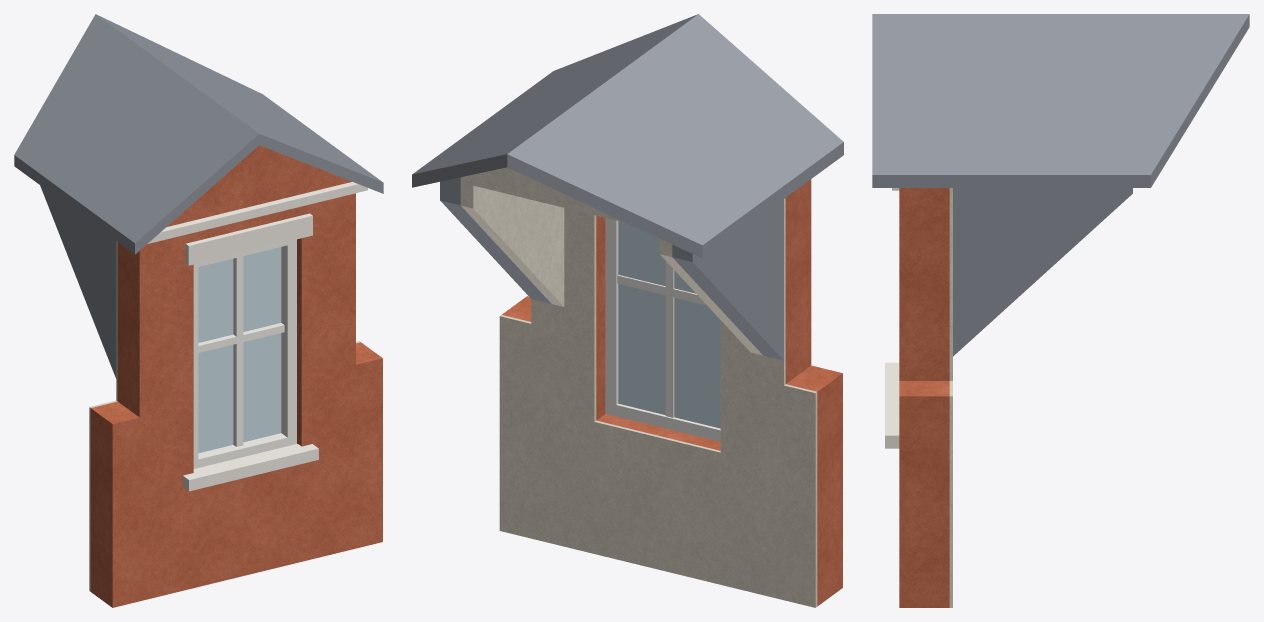
Rendered from knee_wall_dormer.glb.
3 views of the same model, side by side, from view 1: azimuth 30°, elevation 25°; view 2: azimuth 150°, elevation 25°; view 3: azimuth 270°, elevation 25° (orthographic). The views are drawn at different scales.
Parts seen in each view (by area): view 1: knee_wall_dormer_render, knee_wall_dormer_slate, knee_wall_dormer_glass, knee_wall_dormer_frame, knee_wall_dormer_trim, knee_wall_dormer_plaster; view 2: knee_wall_dormer_plaster, knee_wall_dormer_slate, knee_wall_dormer_render, knee_wall_dormer_glass, knee_wall_dormer_frame; view 3: knee_wall_dormer_slate, knee_wall_dormer_render, knee_wall_dormer_plaster, knee_wall_dormer_trim.
Part boxes in pixels (x1,y1,x2,y2): knee_wall_dormer_render: [90, 145, 382, 607]; knee_wall_dormer_slate: [14, 14, 383, 378]; knee_wall_dormer_glass: [198, 247, 281, 453]; knee_wall_dormer_frame: [193, 239, 296, 468]; knee_wall_dormer_trim: [148, 182, 367, 491]; knee_wall_dormer_plaster: [89, 241, 360, 591]; knee_wall_dormer_plaster: [460, 167, 817, 607]; knee_wall_dormer_slate: [412, 14, 843, 360]; knee_wall_dormer_render: [502, 179, 842, 606]; knee_wall_dormer_glass: [618, 221, 720, 428]; knee_wall_dormer_frame: [605, 218, 720, 441]; knee_wall_dormer_slate: [872, 14, 1249, 356]; knee_wall_dormer_render: [899, 188, 949, 607]; knee_wall_dormer_plaster: [949, 188, 952, 607]; knee_wall_dormer_trim: [885, 188, 899, 448].
Bounding box in the file's own units: 2 × 3.18 × 2.1.
6 materials, 2 textured.
